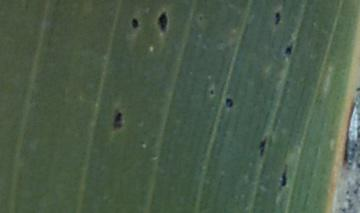tarspot: (157, 11, 168, 32), (113, 112, 122, 130), (258, 139, 267, 156), (282, 164, 288, 187), (130, 17, 140, 30), (274, 10, 281, 25), (225, 97, 234, 108), (285, 46, 292, 56), (209, 89, 216, 97), (197, 14, 204, 22)
